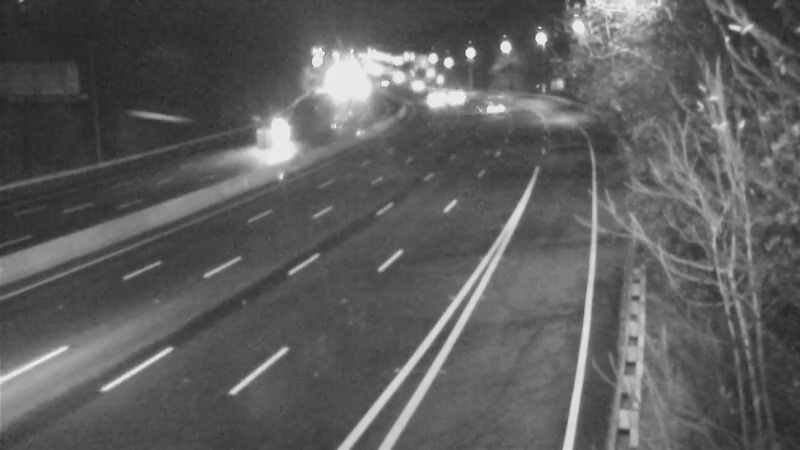vehicle: (391, 62, 441, 112), (432, 73, 482, 123), (412, 74, 462, 124), (464, 77, 514, 127), (243, 114, 293, 164)
